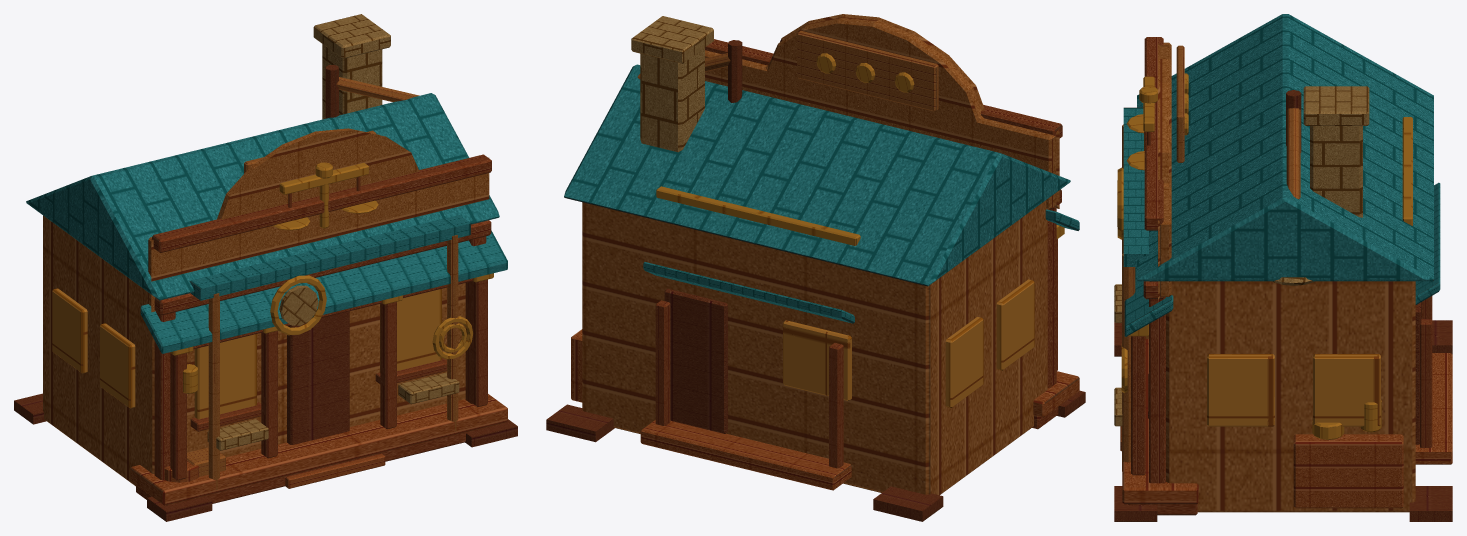
The model's file is assay-office.e5.glb.
3 renders of one model, left to right at view 1: azimuth 30°, elevation 25°; view 2: azimuth 150°, elevation 25°; view 3: azimuth 270°, elevation 25°, orthographic. The views are drawn at different scales.
Parts seen in each view (by area): view 1: AssayOfficeE5; view 2: AssayOfficeE5; view 3: AssayOfficeE5.
Boxes of the visible parts, x1=… form: AssayOfficeE5: x1=14, y1=14, x2=517, y2=521; AssayOfficeE5: x1=546, y1=14, x2=1085, y2=521; AssayOfficeE5: x1=1114, y1=14, x2=1452, y2=521.
Bounding box in the file's own units: 4.42 × 4.2 × 3.32.
Materials: 1 (1 with a texture image).
